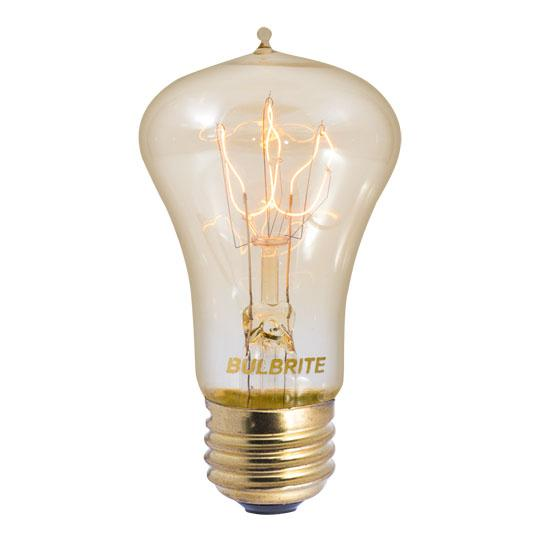Nonrec_Glass: (127, 12, 407, 527)
